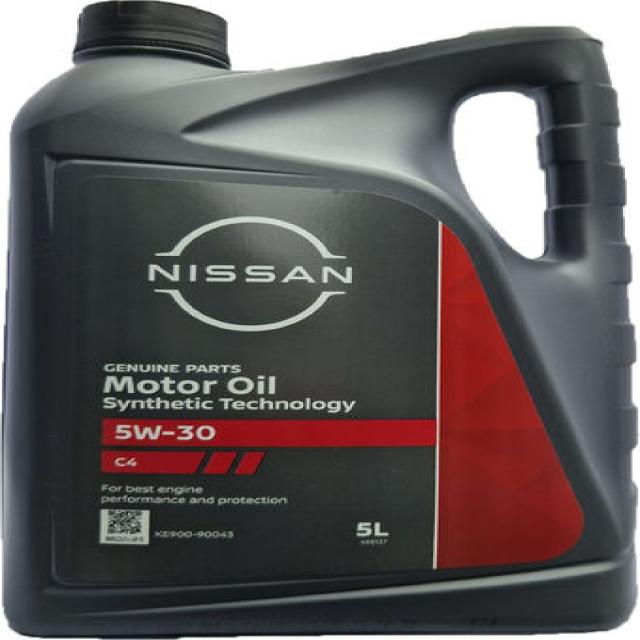motor_oil: (5, 1, 640, 639)
